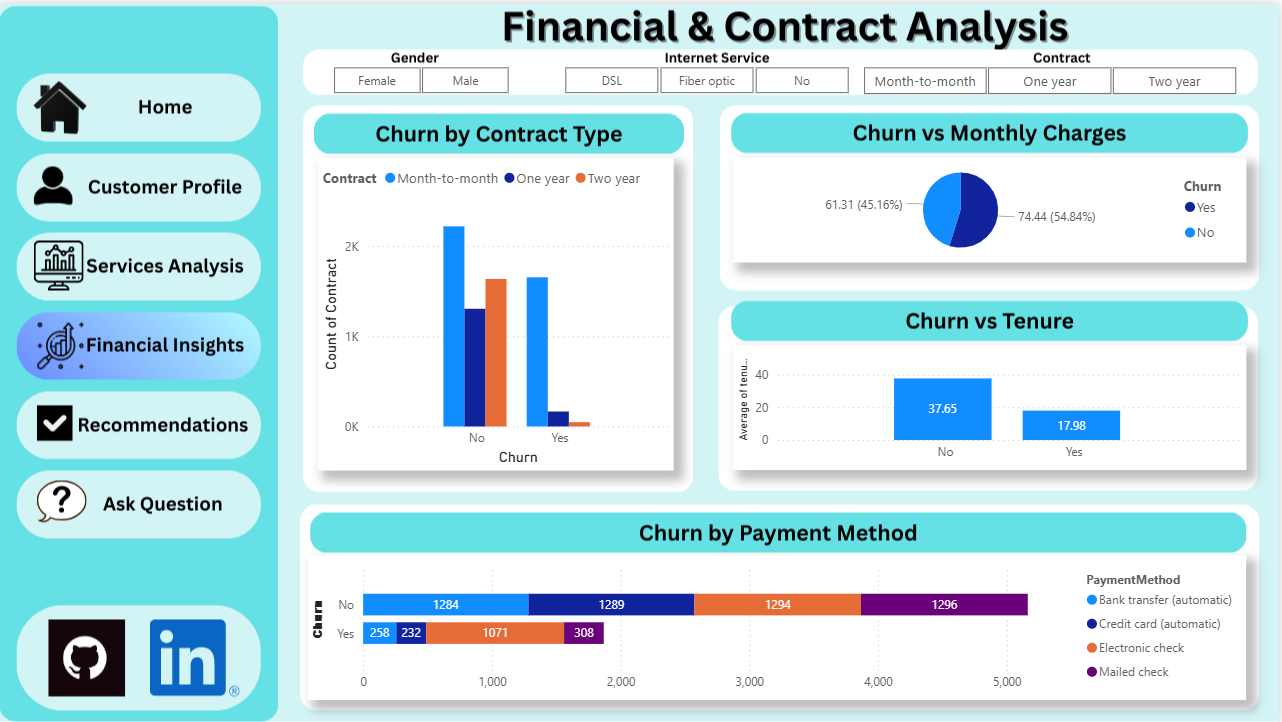

This screenshot's page, from the dashboard's own definition file:
{"tool":"powerbi","page":{"name":"Financial Insights","canvas":[1280,720],"ordinal":3},"visuals":[{"type":"clusteredColumnChart","fields":{"Category":["telecom_churn_project churn_data.Churn"],"Y":["CountNonNull(telecom_churn_project churn_data.Contract)"],"Series":["telecom_churn_project churn_data.Contract"]},"box":[318.5,153.2,355.9,312.5],"z":0},{"type":"clusteredColumnChart","fields":{"Y":["Avg(telecom_churn_project churn_data.tenure)"],"Category":["telecom_churn_project churn_data.Churn"]},"box":[733.8,341.2,513.8,125],"z":1000},{"type":"pieChart","fields":{"Category":["telecom_churn_project churn_data.Churn"],"Y":["Avg(telecom_churn_project churn_data.MonthlyCharges)"]},"box":[733.5,153.2,513.9,105],"z":2000},{"type":"barChart","fields":{"Category":["telecom_churn_project churn_data.Churn"],"Y":["CountNonNull(telecom_churn_project churn_data.PaymentMethod)"],"Series":["telecom_churn_project churn_data.PaymentMethod"]},"box":[308.8,551.3,938.6,144.8],"z":3000},{"type":"actionButton","box":[33.8,73.8,197.5,62.5],"z":4000},{"type":"actionButton","box":[33.8,153.8,215,57.5],"z":5000},{"type":"actionButton","box":[33.8,238.8,215,51.2],"z":6000},{"type":"actionButton","box":[33.8,392.5,215,57.5],"z":7000},{"type":"actionButton","box":[33.8,476.2,215,48.8],"z":8000},{"type":"slicer","fields":{"Values":["telecom_churn_project churn_data.Contract"]},"box":[838.5,56.7,422.3,33.8],"z":9000},{"type":"slicer","fields":{"Values":["telecom_churn_project churn_data.InternetService"]},"box":[540,56.2,333.8,33.8],"z":10000},{"type":"slicer","fields":{"Values":["telecom_churn_project churn_data.gender"]},"box":[308.8,56.2,225,33.8],"z":11000},{"type":"actionButton","box":[150,612.5,90,83.8],"z":12000},{"type":"actionButton","box":[46.2,612.5,81.2,83.8],"z":13000}]}

Visuals, with their boxes in screenshot pixels (x1, y1, x2, y2), scaled from the page's 1280x720 canvas onto the 1282x722 screenshot:
clusteredColumnChart - telecom_churn_project churn_data.Churn x CountNonNull(telecom_churn_project churn_data.Contract): [left=319, top=154, right=675, bottom=467]
clusteredColumnChart - Avg(telecom_churn_project churn_data.tenure) x telecom_churn_project churn_data.Churn: [left=735, top=342, right=1250, bottom=467]
pieChart - telecom_churn_project churn_data.Churn x Avg(telecom_churn_project churn_data.MonthlyCharges): [left=735, top=154, right=1249, bottom=259]
barChart - telecom_churn_project churn_data.Churn x CountNonNull(telecom_churn_project churn_data.PaymentMethod): [left=309, top=553, right=1249, bottom=698]
actionButton: [left=34, top=74, right=232, bottom=137]
actionButton: [left=34, top=154, right=249, bottom=212]
actionButton: [left=34, top=239, right=249, bottom=291]
actionButton: [left=34, top=394, right=249, bottom=451]
actionButton: [left=34, top=478, right=249, bottom=526]
slicer - telecom_churn_project churn_data.Contract: [left=840, top=57, right=1263, bottom=91]
slicer - telecom_churn_project churn_data.InternetService: [left=541, top=56, right=875, bottom=90]
slicer - telecom_churn_project churn_data.gender: [left=309, top=56, right=535, bottom=90]
actionButton: [left=150, top=614, right=240, bottom=698]
actionButton: [left=46, top=614, right=128, bottom=698]
